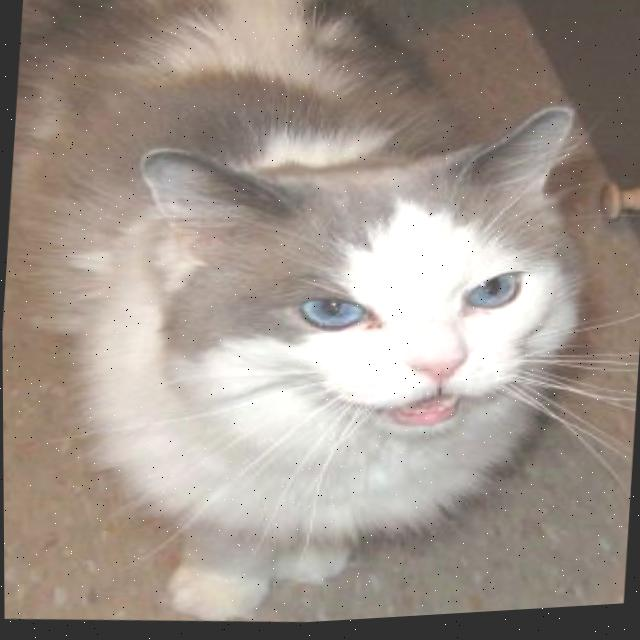Ragdoll: (0, 0, 618, 640)
